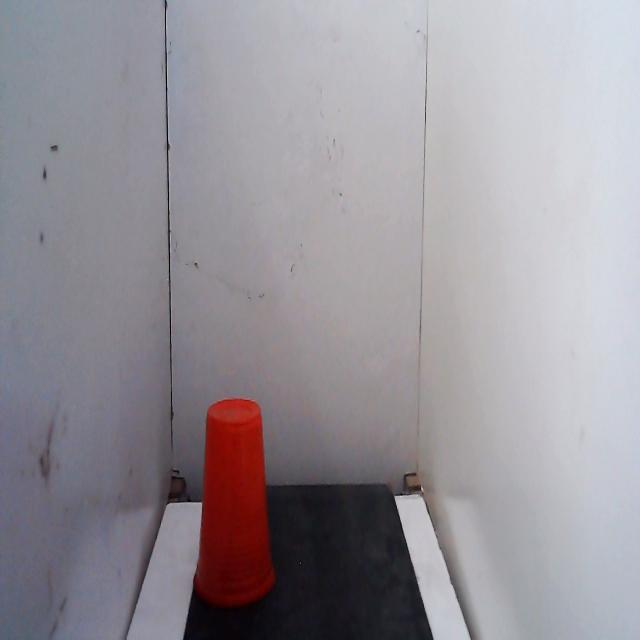plastico: (188, 386, 281, 613)
